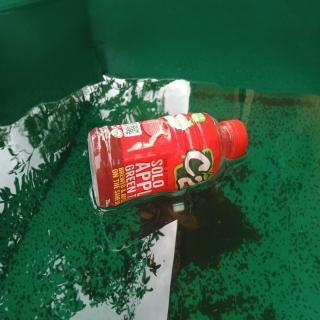bottle: (88, 109, 247, 212)
